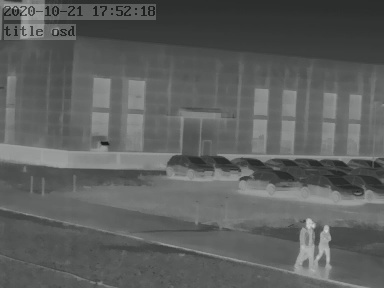person: (296, 217, 313, 268), (317, 220, 333, 267)
vehicle: (238, 169, 303, 191), (309, 173, 358, 199), (165, 153, 213, 178), (204, 153, 242, 177), (349, 173, 382, 200), (232, 155, 270, 171), (261, 155, 297, 170), (348, 156, 380, 170), (317, 156, 348, 170), (295, 155, 325, 169)
